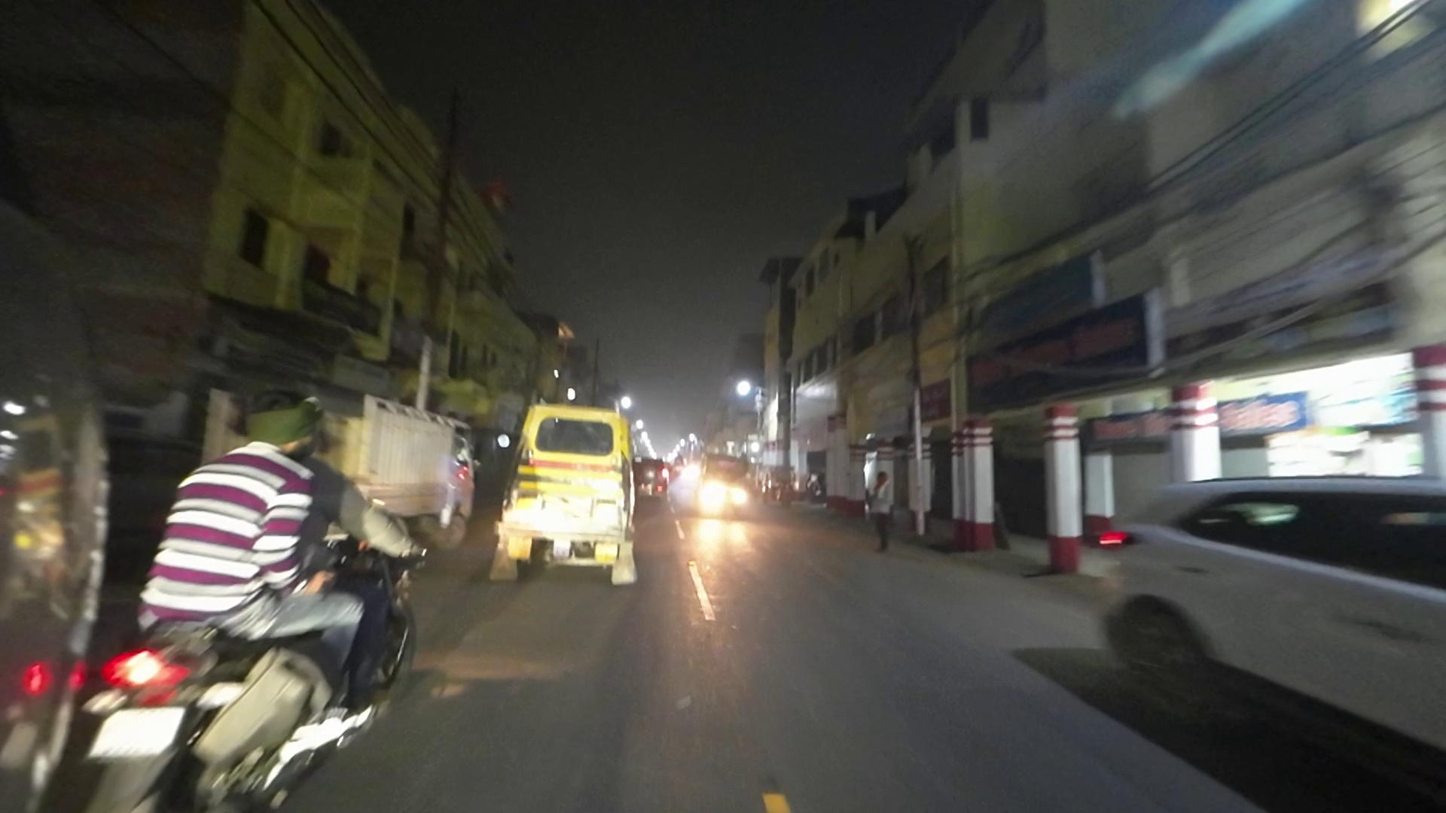streetlight: (480, 172, 511, 218)
